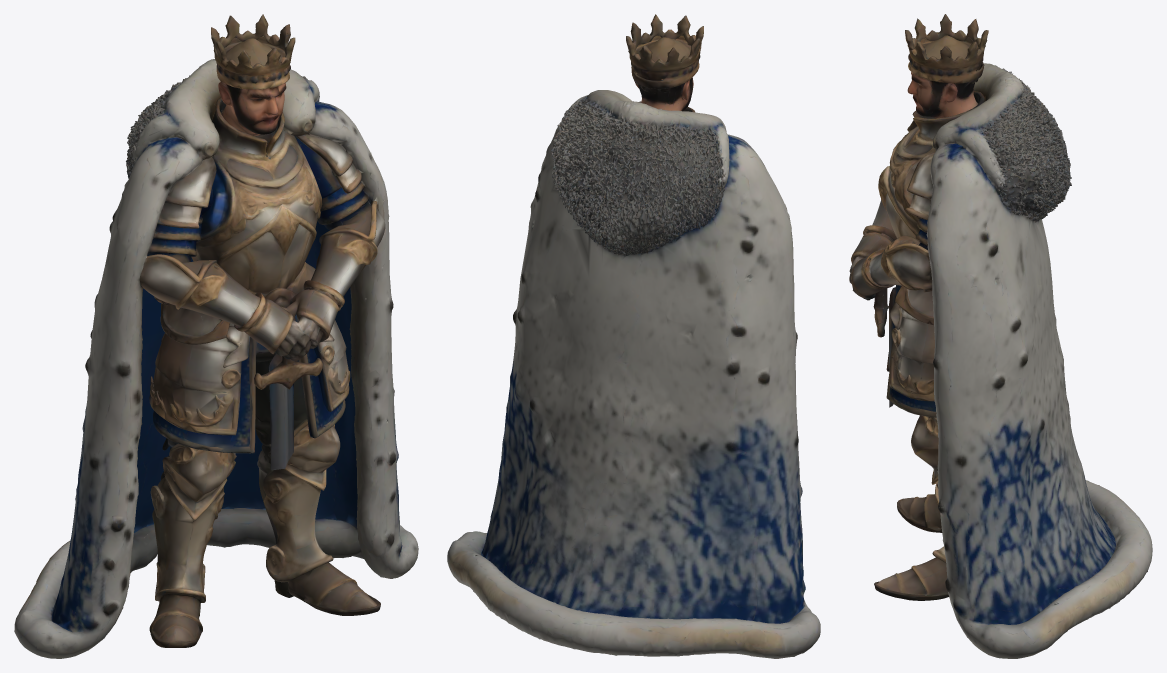
The model's file is detail_8.glb.
3 views of the same model, side by side, from view 1: azimuth 30°, elevation 25°; view 2: azimuth 150°, elevation 25°; view 3: azimuth 270°, elevation 25° (orthographic). The views are drawn at different scales.
Size of the model in its own units: 0.6768 by 0.9989 by 0.4985.
Materials: 1 (1 with a texture image).
